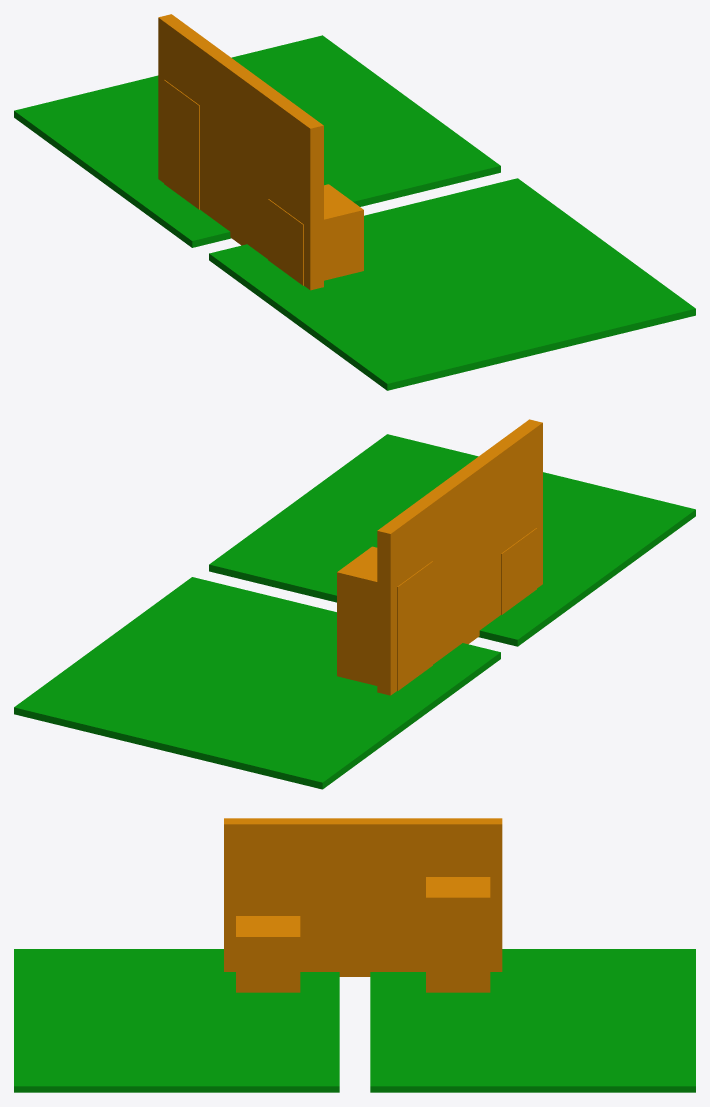
File: tutorial.fbx
The picture shows the model from 3 angles, top to bottom: view 1: azimuth 30°, elevation 25°; view 2: azimuth 150°, elevation 25°; view 3: azimuth 270°, elevation 25°; orthographic projection. The views are drawn at different scales.
Parts seen in each view (by area): view 1: Cube, Cube.001, Cube.002, Cube.003, Cube.004; view 2: Cube.001, Cube, Cube.002, Cube.004, Cube.003; view 3: Cube, Cube.001, Cube.002, Cube.004, Cube.003.
Boxes of the visible parts, box(x1,y1,x2,y2) form: Cube: box(209, 178, 695, 390); Cube.001: box(14, 35, 500, 247); Cube.002: box(158, 14, 323, 290); Cube.003: box(268, 184, 363, 285); Cube.004: box(164, 80, 199, 209); Cube.001: box(14, 577, 500, 789); Cube: box(209, 434, 695, 646); Cube.002: box(377, 419, 542, 695); Cube.004: box(337, 546, 432, 690); Cube.003: box(501, 528, 536, 614); Cube: box(14, 949, 339, 1092); Cube.001: box(370, 949, 695, 1092); Cube.002: box(224, 818, 502, 976); Cube.004: box(426, 877, 490, 992); Cube.003: box(236, 916, 300, 992).
Bounding box in the file's own units: 1533 × 800 × 3211.
